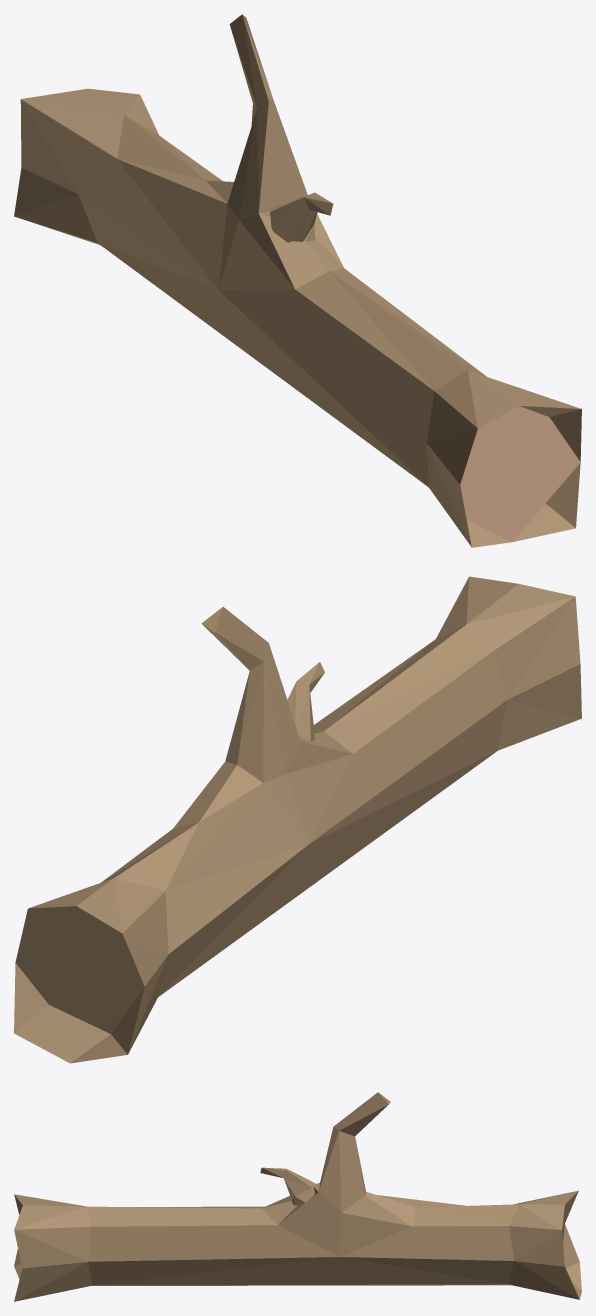
Rendered from trunk9.fbx.
The picture shows the model from 3 angles, top to bottom: view 1: azimuth 30°, elevation 25°; view 2: azimuth 150°, elevation 25°; view 3: azimuth 270°, elevation 25°; orthographic projection. The views are drawn at different scales.
Parts seen in each view (by area): view 1: trunk9; view 2: trunk9; view 3: trunk9.
Boxes of the visible parts, x1,y1,x2,y2 form: trunk9: [14, 14, 581, 547]; trunk9: [14, 576, 581, 1063]; trunk9: [14, 1092, 581, 1301].
Bounding box in the file's own units: 42.05 × 102 × 259.
